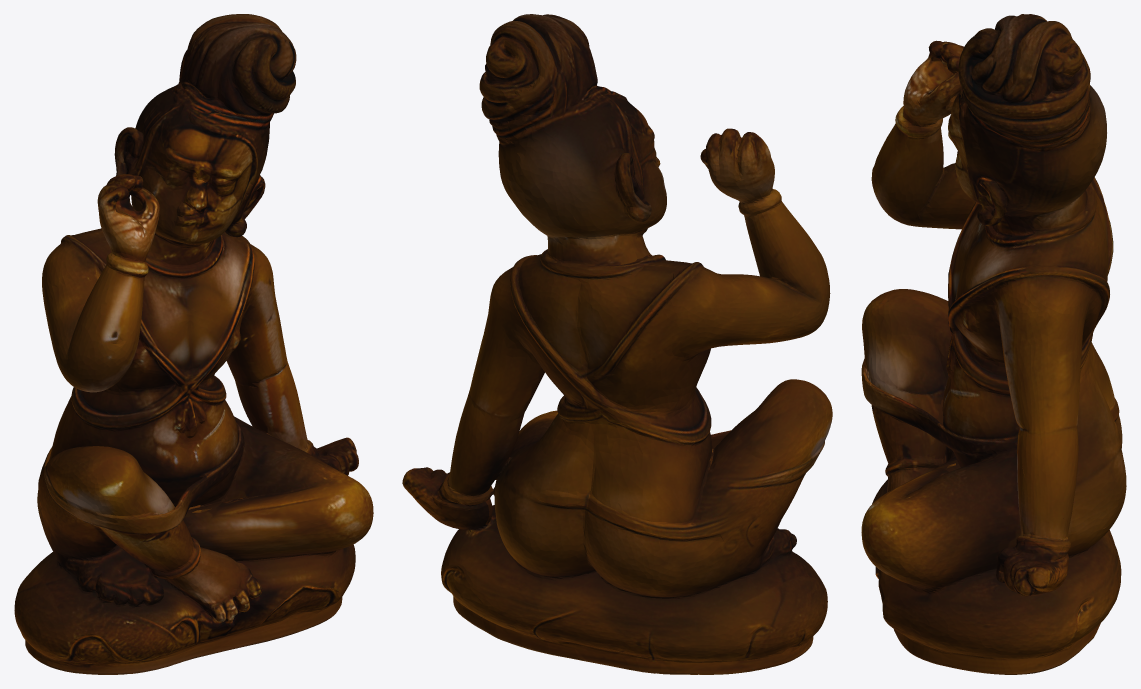
The picture shows the model from 3 angles, left to right: view 1: azimuth 30°, elevation 25°; view 2: azimuth 150°, elevation 25°; view 3: azimuth 270°, elevation 25°; orthographic projection. The views are drawn at different scales.
Parts seen in each view (by area): view 1: textured_mesh; view 2: textured_mesh; view 3: textured_mesh.
Part boxes in pixels (x1,y1,x2,y2): textured_mesh: (14, 14, 373, 674); textured_mesh: (402, 14, 832, 674); textured_mesh: (861, 14, 1126, 674).
Bounding box in the file's own units: 1.31 × 1.97 × 0.7726.
1 material, 1 textured.
